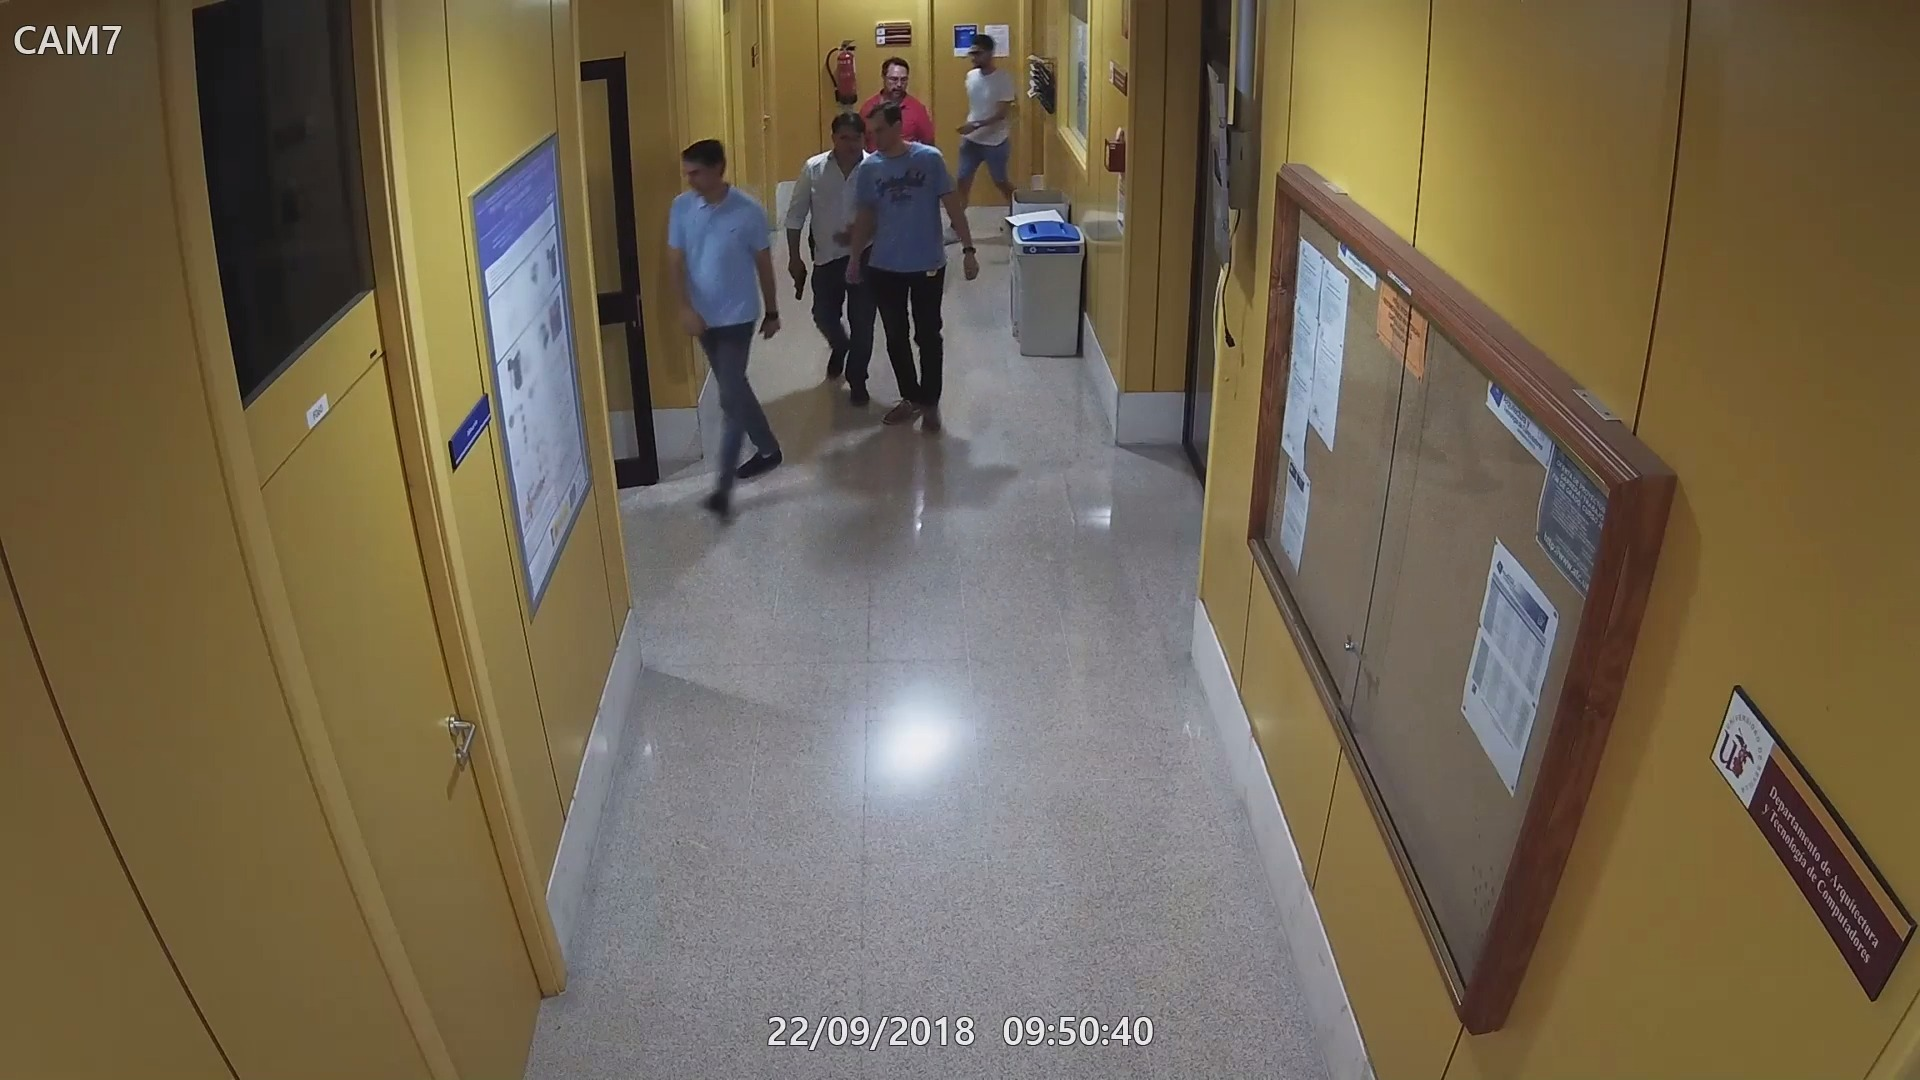Handgun: (789, 253, 807, 303)
